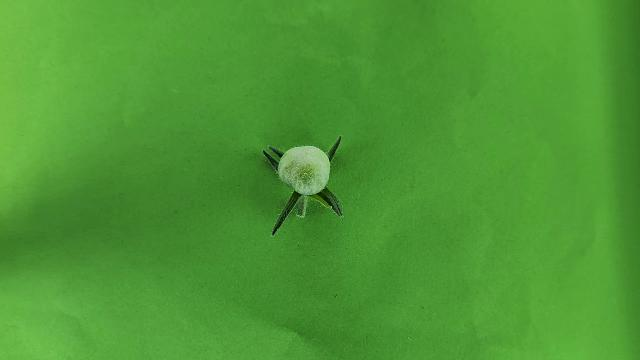Fruit Maturation: (278, 145, 330, 194)
